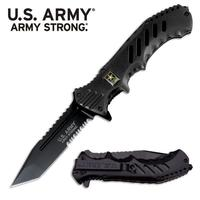knife: (6, 7, 191, 194)
